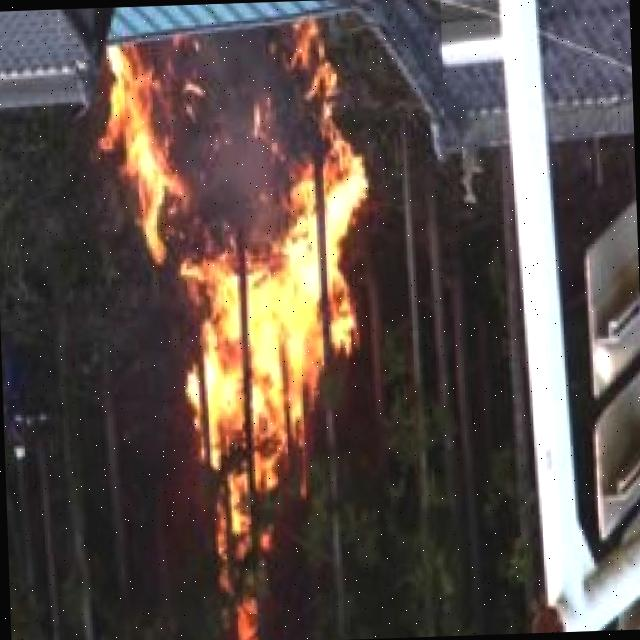fire: (105, 20, 391, 613)
